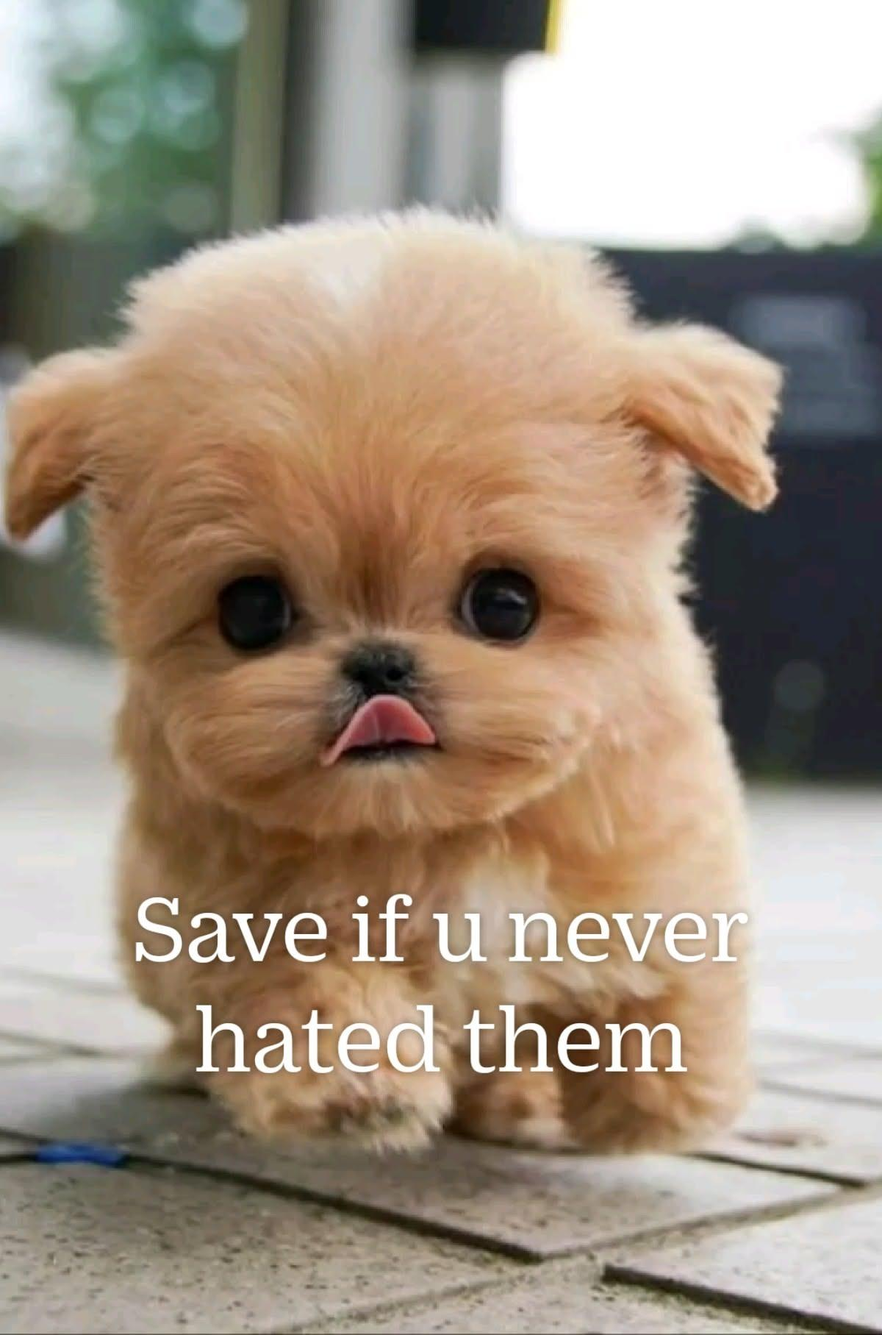puppy-dog: (1, 203, 787, 1160)
